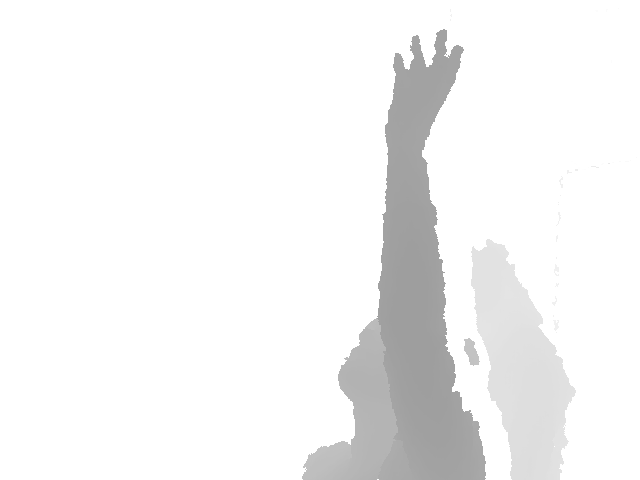hand: (384, 29, 463, 153)
head: (337, 313, 421, 418)
person: (299, 29, 488, 480)
